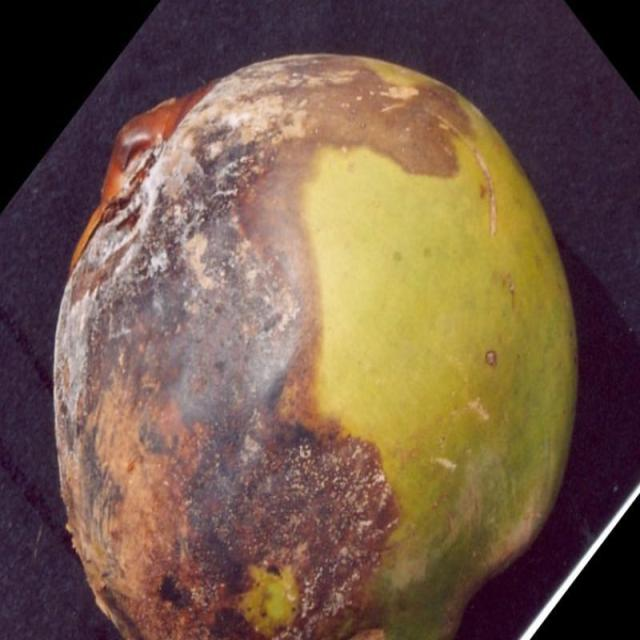damaged: (54, 55, 575, 639)
